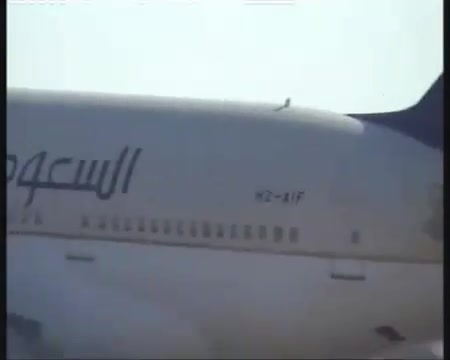aeroplane: (8, 69, 448, 359)
